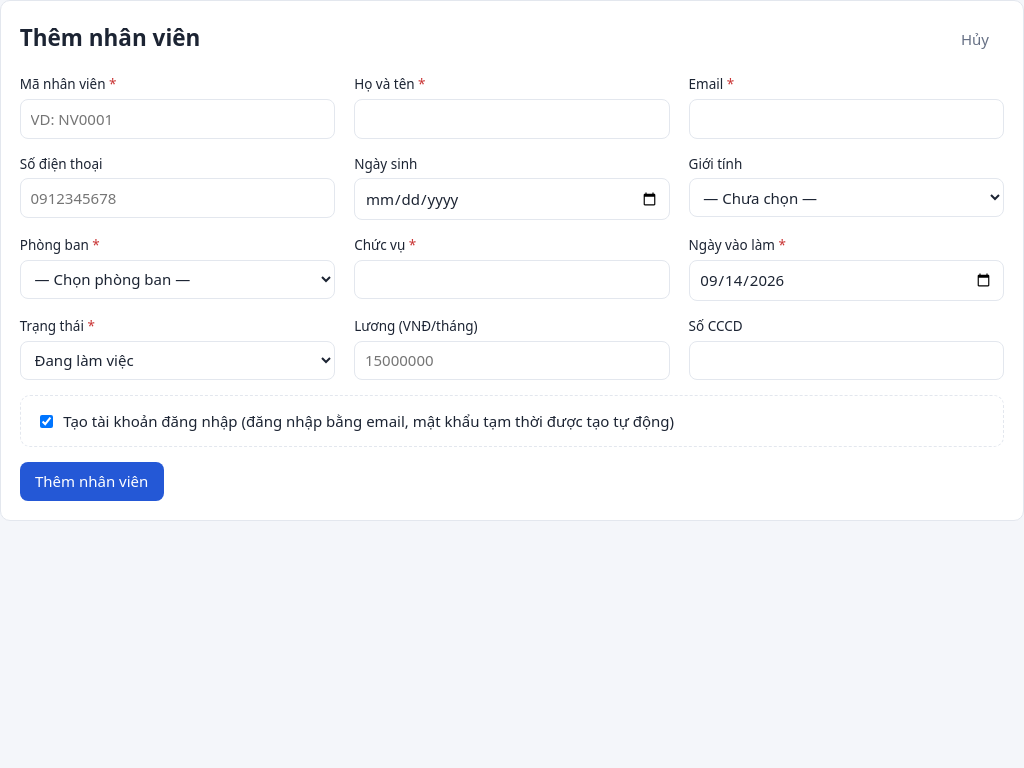
Scenario: EmployeeFormPage › shows the server error
The image size is (1024, 768).
Type "NV0100" into the field labelled "Mã nhân viên *" at x=178, y=119, box [20,99,336,138]
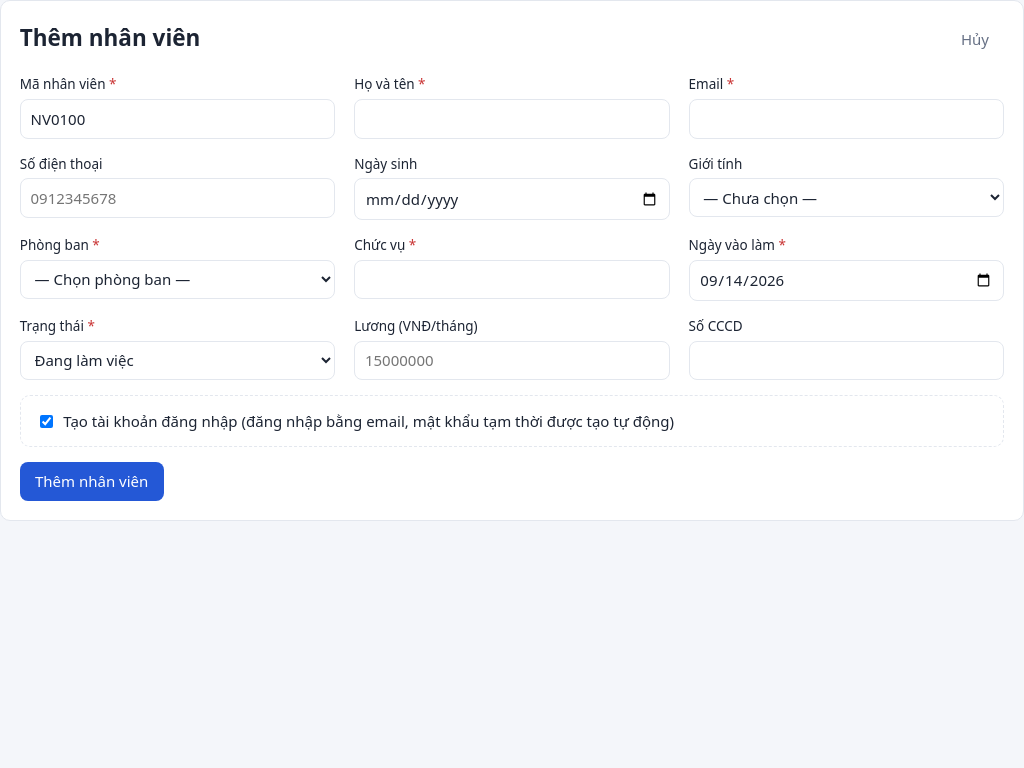
Type "Lê Thu Mai" into the field labelled "Họ và tên *" at x=512, y=119, box [354,99,670,138]
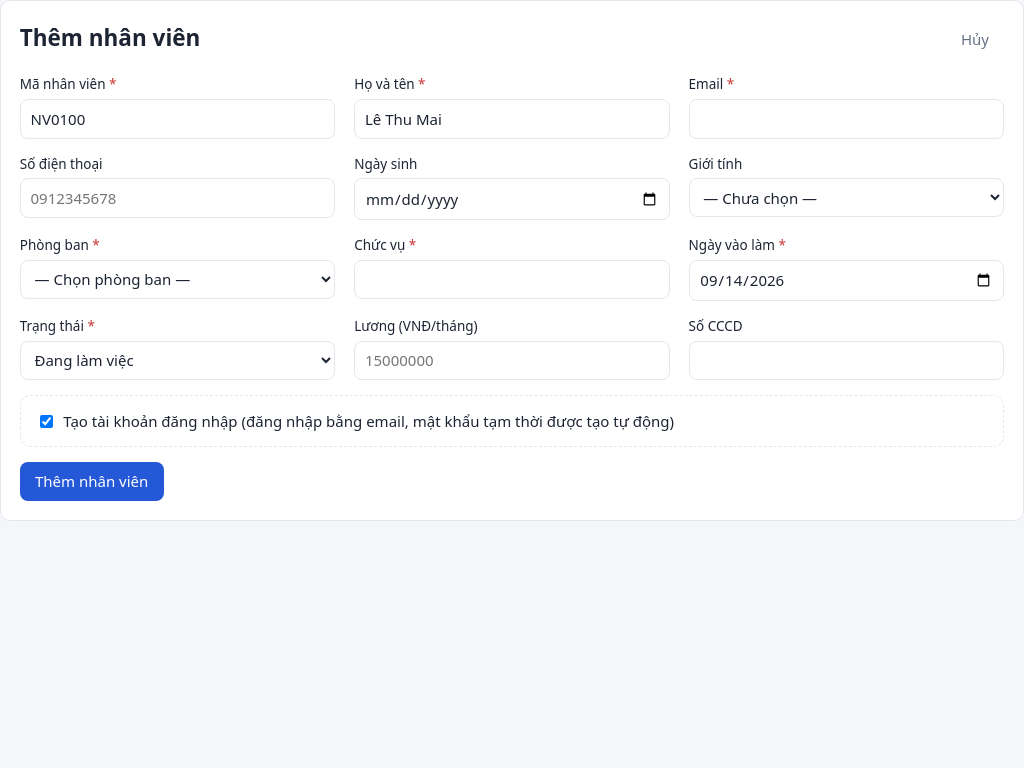
Type "mai@congty.vn" into the field labelled "Email *" at x=846, y=119, box [689,99,1004,138]
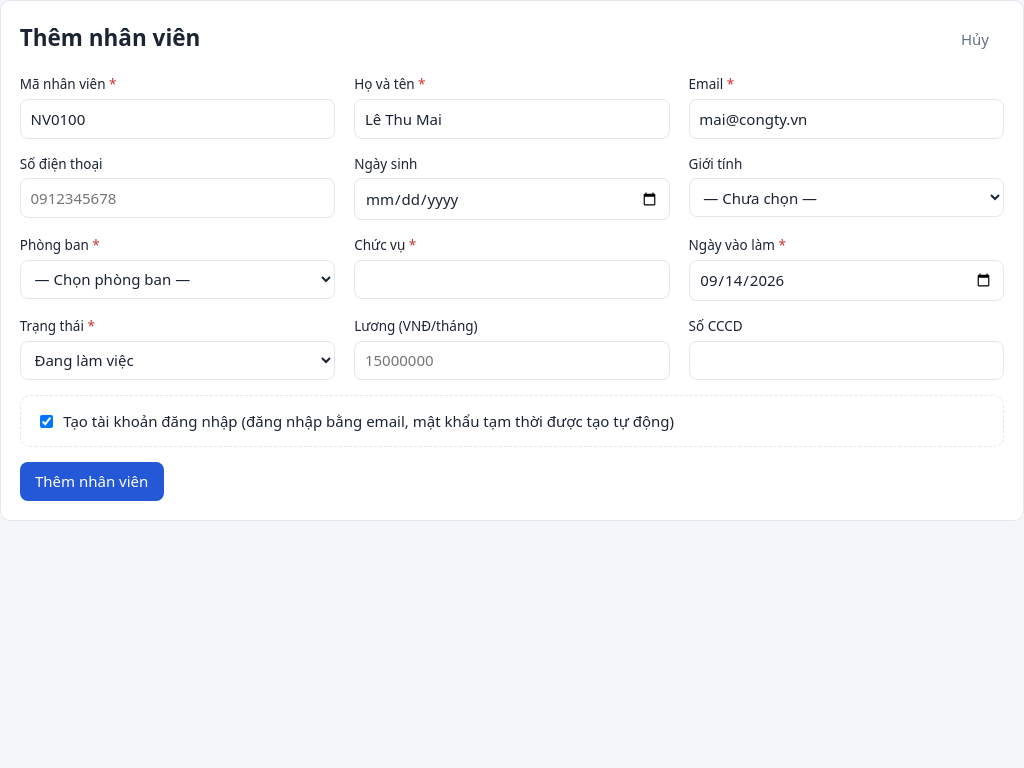
Select "Nhân sự" in the dropdown labelled "Phòng ban *" at x=178, y=279, box [20,260,336,298]
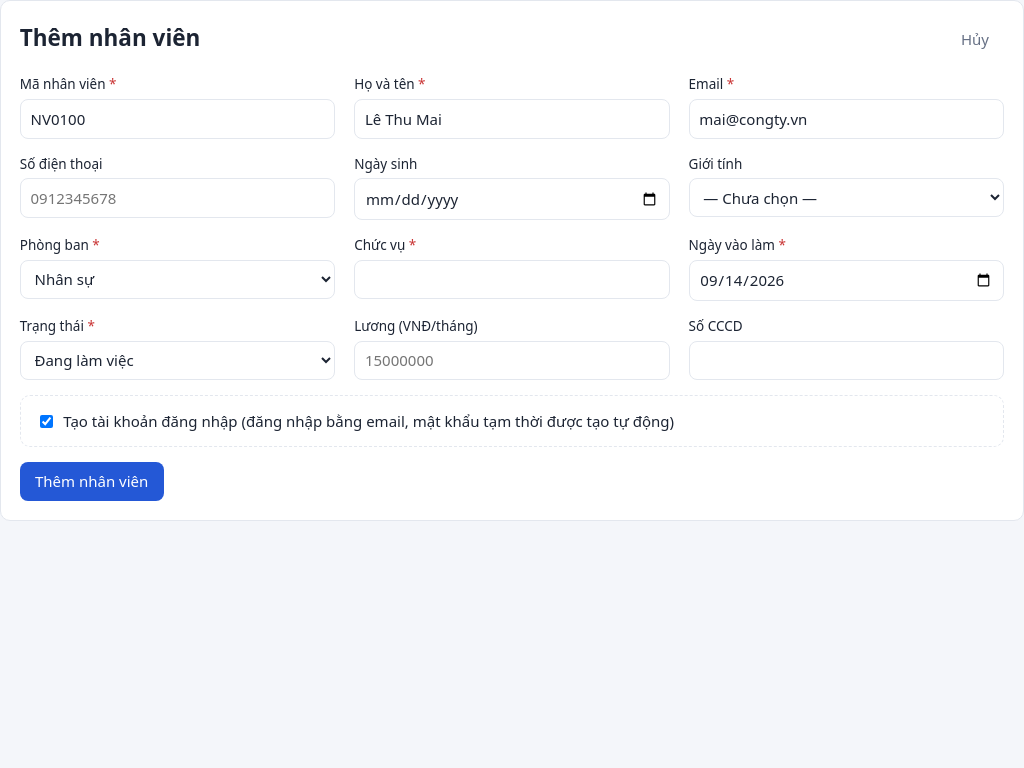
Type "Chuyên viên tuyển dụng" into the field labelled "Chức vụ *" at x=512, y=279, box [354,260,670,299]
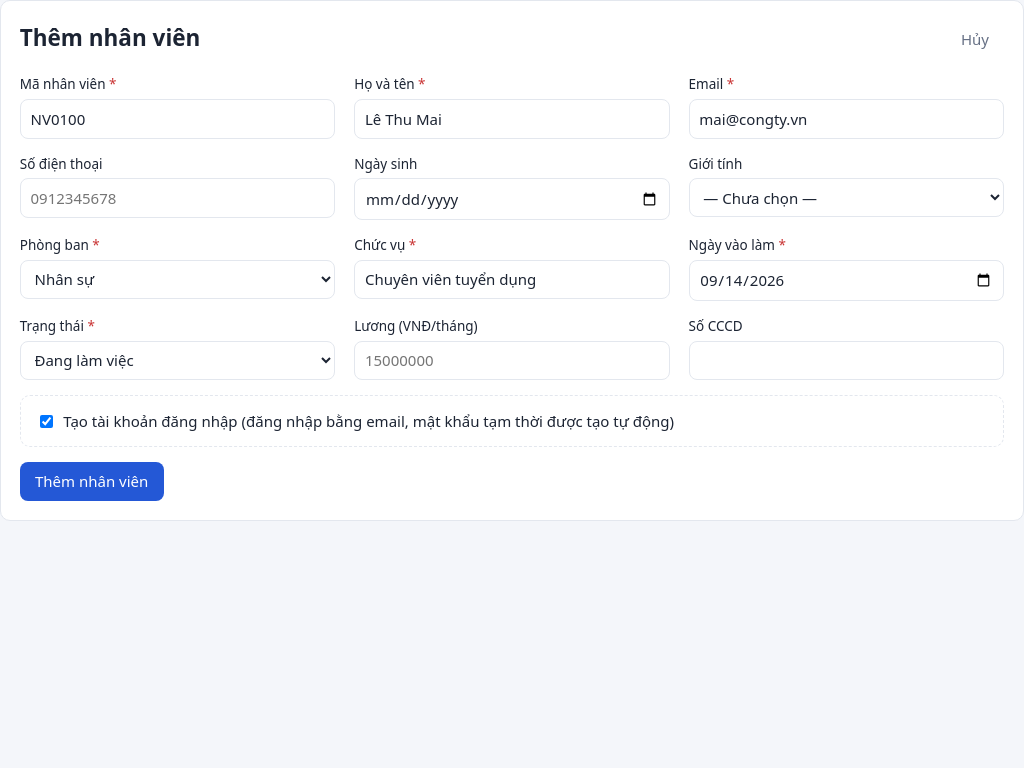
Click the button "Thêm nhân viên" at x=92, y=482, box [20,462,164,501]
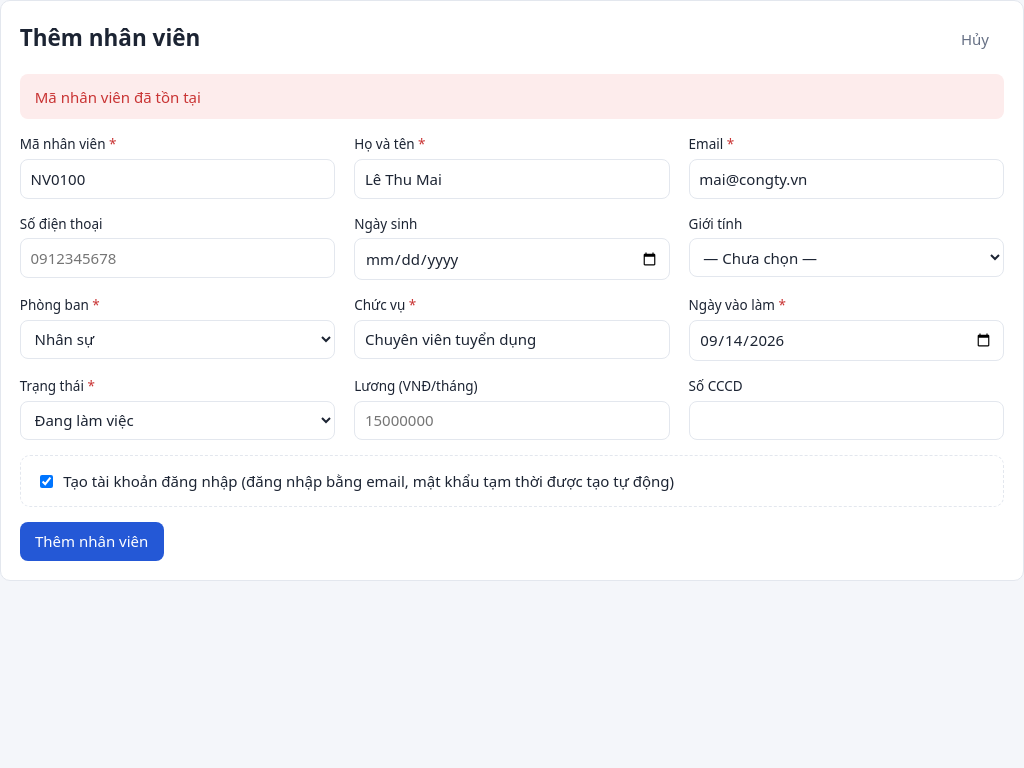
Result: the message reads "Mã nhân viên đã tồn tại" at [35,86,201,106]
